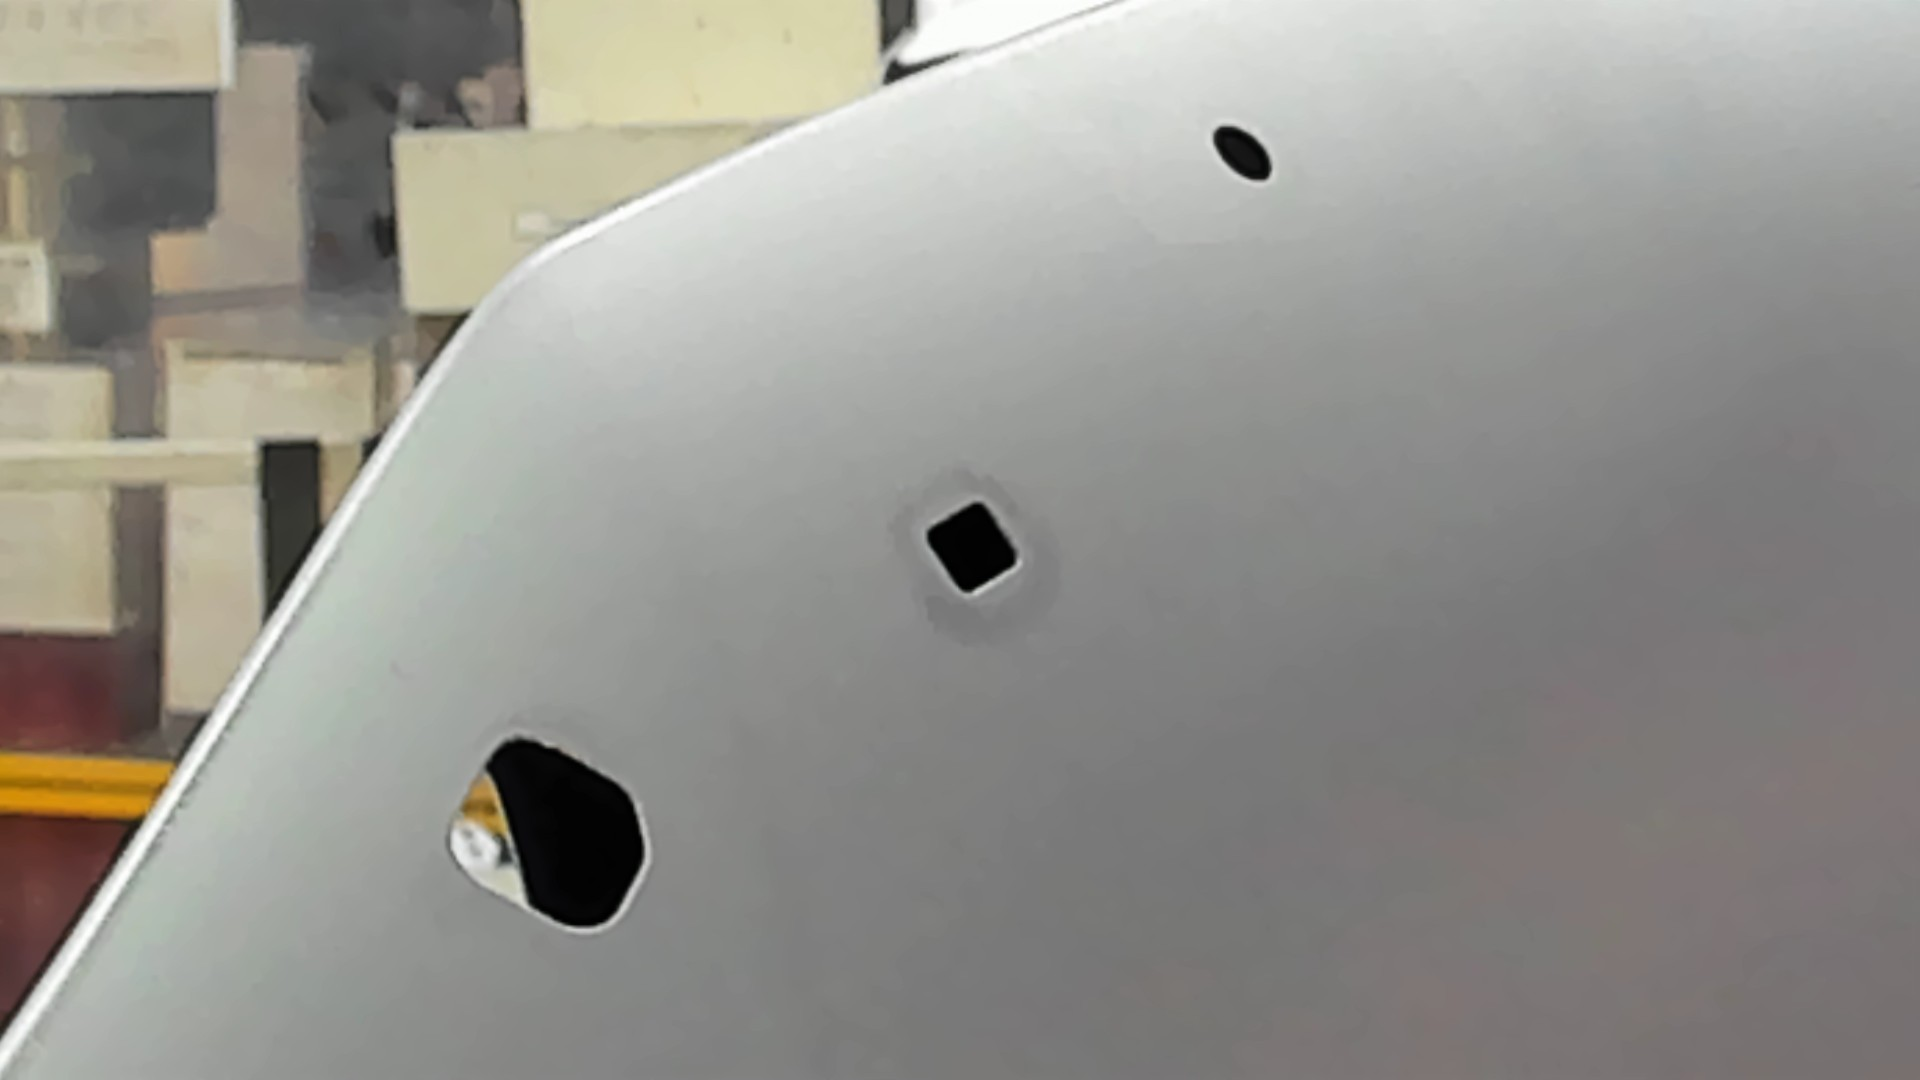chico: (1207, 119, 1278, 190)
grande: (438, 724, 659, 942)
mediano: (918, 492, 1033, 611)
